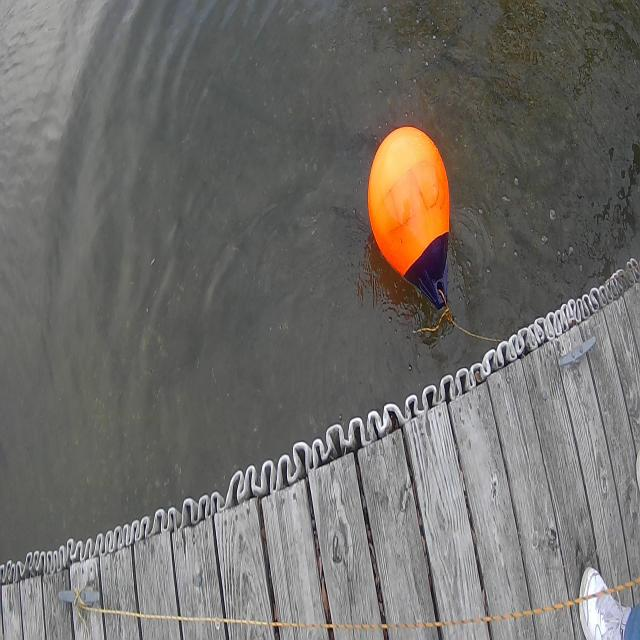Buoy: (361, 114, 470, 329)
